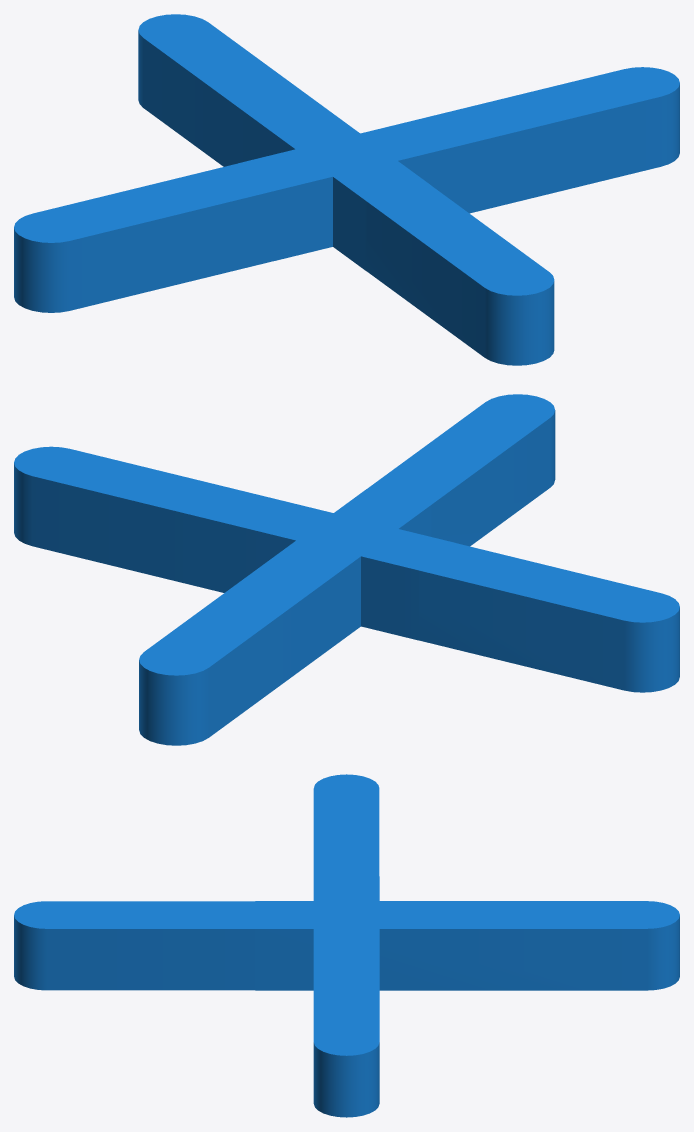
Rendered from plus.glb.
3 views of the same model, one above another, from view 1: azimuth 30°, elevation 25°; view 2: azimuth 150°, elevation 25°; view 3: azimuth 270°, elevation 25° (orthographic). The views are drawn at different scales.
Parts seen in each view (by area): view 1: Arrow06_5.001, Arrow06_5, Arrow06_5.002, Arrow06_5.003; view 2: Arrow06_5.001, Arrow06_5.002, Arrow06_5, Arrow06_5.003; view 3: Arrow06_5.002, Arrow06_5.003, Arrow06_5.001, Arrow06_5.
Part boxes in pixels (x1,y1,x2,y2): Arrow06_5.001: (238, 67, 679, 260); Arrow06_5: (14, 163, 275, 312); Arrow06_5.002: (138, 14, 430, 270); Arrow06_5.003: (366, 185, 554, 365); Arrow06_5.001: (14, 446, 455, 640); Arrow06_5.002: (139, 489, 431, 745); Arrow06_5: (418, 543, 679, 692); Arrow06_5.003: (367, 394, 555, 546); Arrow06_5.002: (255, 901, 679, 990); Arrow06_5.003: (14, 901, 255, 990); Arrow06_5.001: (313, 876, 379, 1117); Arrow06_5: (313, 774, 379, 876).
Size of the model in its own units: 0.2043 by 0.0209 by 0.2043.
